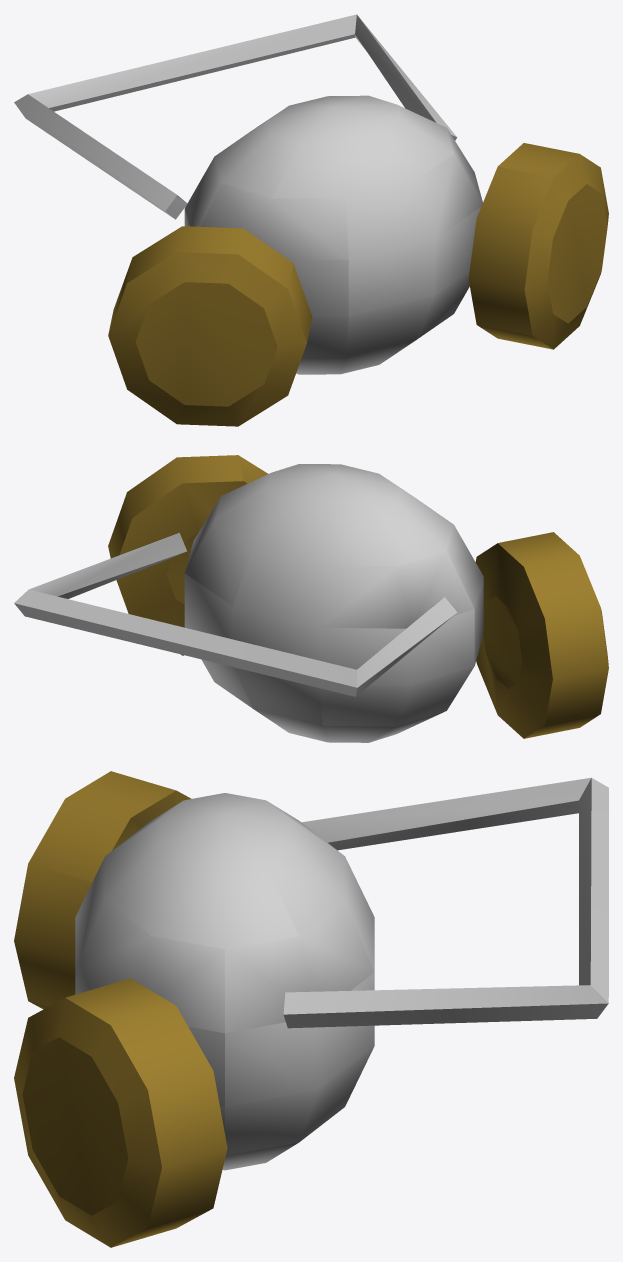
File: mascarilla.glb
3 views of the same model, one above another, from view 1: azimuth 30°, elevation 25°; view 2: azimuth 150°, elevation 25°; view 3: azimuth 270°, elevation 25° (orthographic). The views are drawn at different scales.
Parts seen in each view (by area): view 1: mascarilla; view 2: mascarilla; view 3: mascarilla.
Part boxes in pixels (bbox=[...]): mascarilla: bbox=[14, 14, 608, 426]; mascarilla: bbox=[14, 455, 608, 742]; mascarilla: bbox=[14, 771, 608, 1247].
Size of the model in its own units: 0.2432 by 0.119 by 0.1935.
